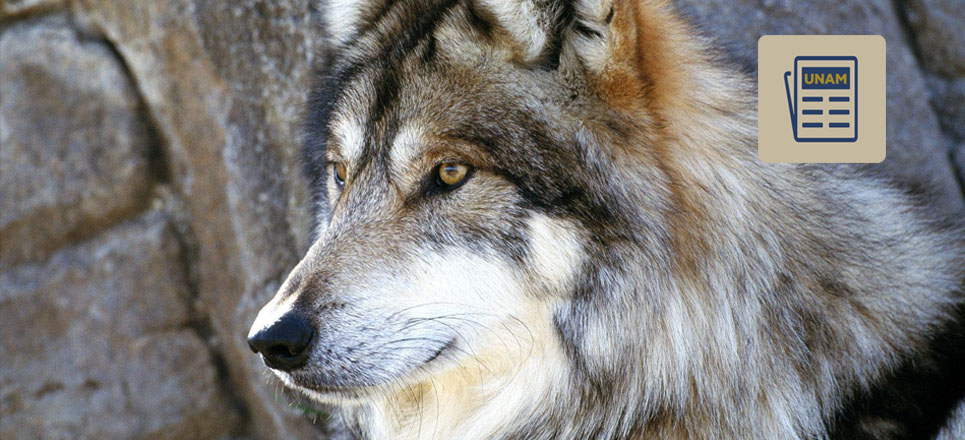Lobo: (231, 2, 761, 430)
